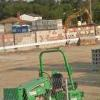Tractor: (12, 47, 86, 100)
